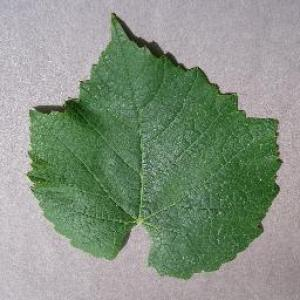Folha: (25, 11, 282, 280)
